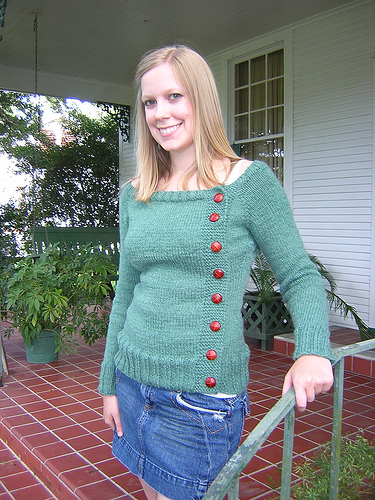without_mask: (136, 67, 200, 153)
